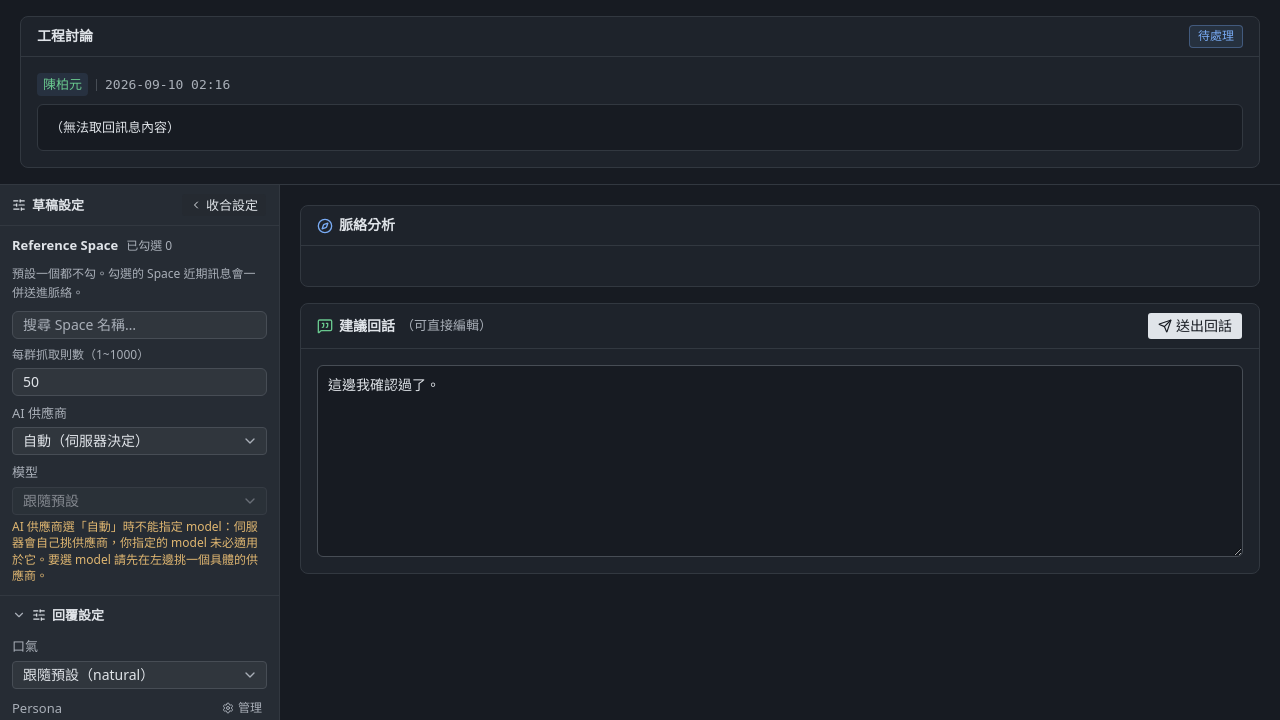
送出確認框 › **answering 有 3 則時，逐則列出寄件人與時間**
The image size is (1280, 720).
Click the button "送出回話" at [1195, 326], box [1147, 312, 1243, 340]
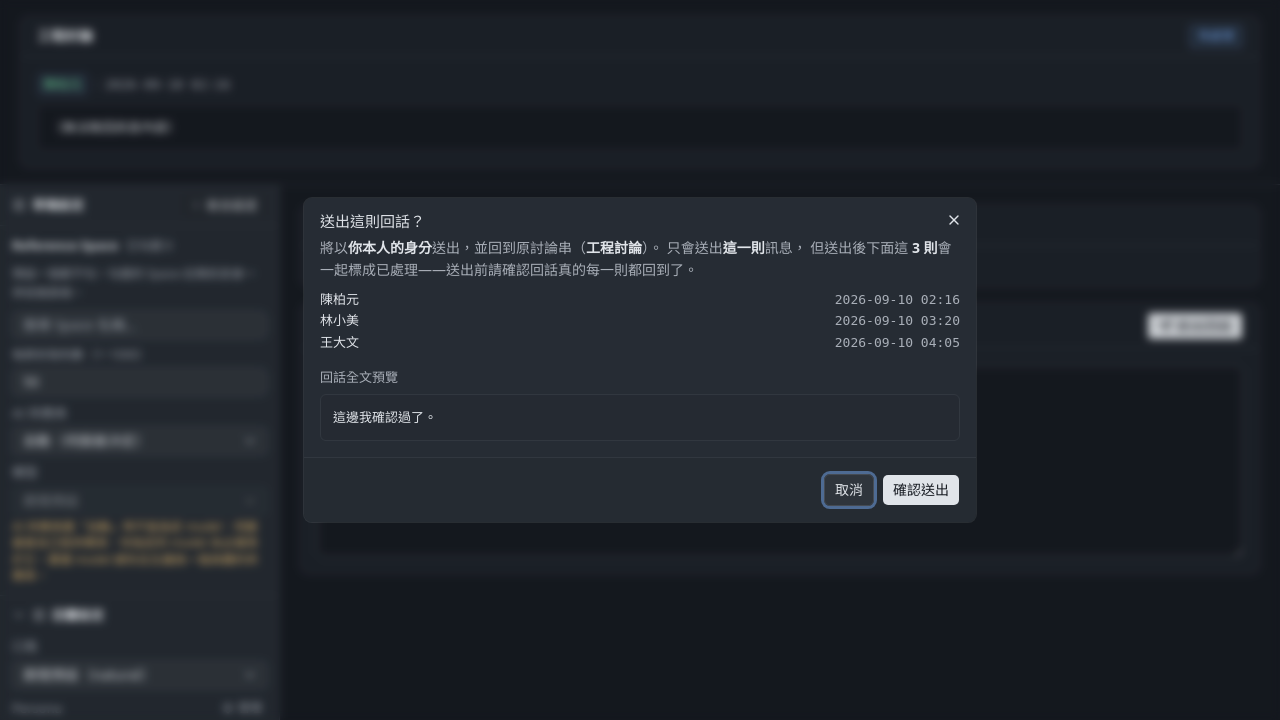
Now the text "陳柏元" is shown, box [320, 290, 359, 309]
Now the text "林小美" is shown, box [320, 311, 359, 331]
Now the text "王大文" is shown, box [320, 333, 359, 352]
